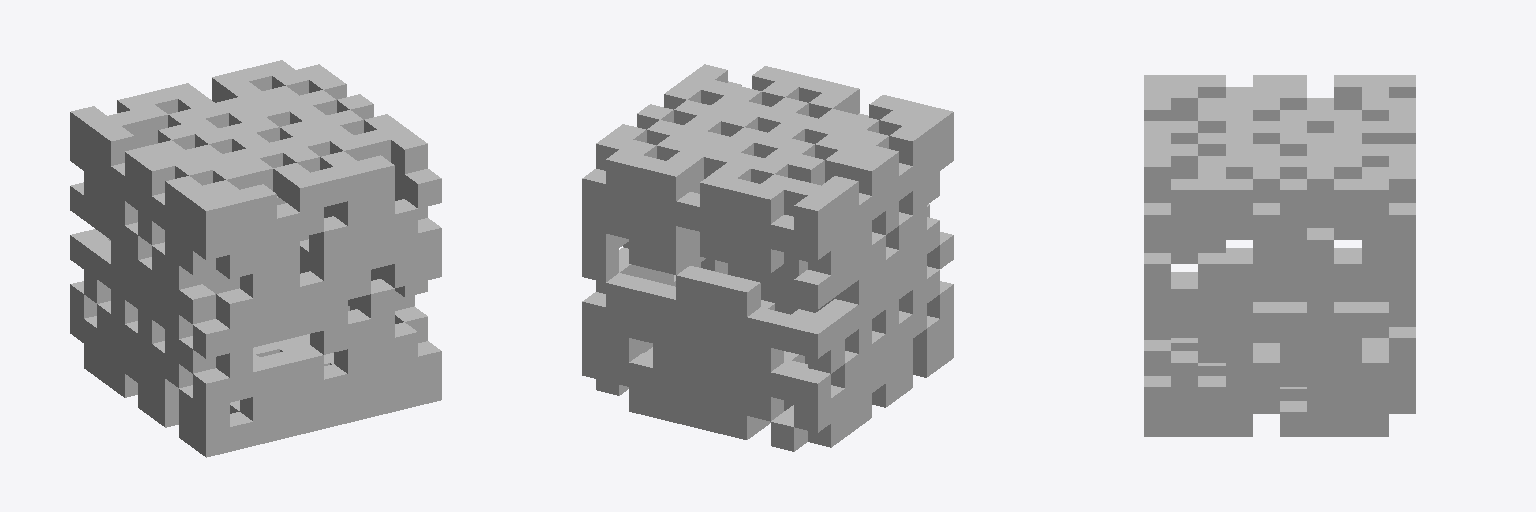
File: Leaf.obj
The picture shows the model from 3 angles: view 1: azimuth 30°, elevation 25°; view 2: azimuth 150°, elevation 25°; view 3: azimuth 270°, elevation 25°; orthographic projection.
Parts seen in each view (by area): view 1: object 1; view 2: object 1; view 3: object 1.
Part boxes in pixels (x1,y1,x2,y2): object 1: (70,60,441,457); object 1: (582,64,953,451); object 1: (1144,75,1415,436).
Bounding box in the file's own units: 1 × 1 × 1.